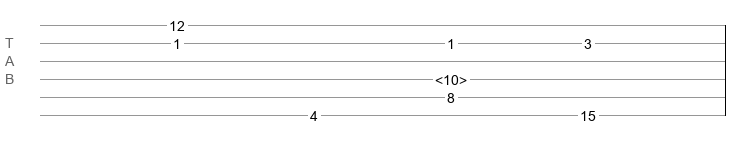1: (173, 36, 181, 46), (447, 36, 455, 46)
12: (169, 18, 185, 28)
15: (580, 108, 596, 118)
3: (584, 36, 592, 46)
4: (310, 108, 318, 118)
8: (447, 90, 455, 100)
harmonic: (435, 72, 467, 82)
